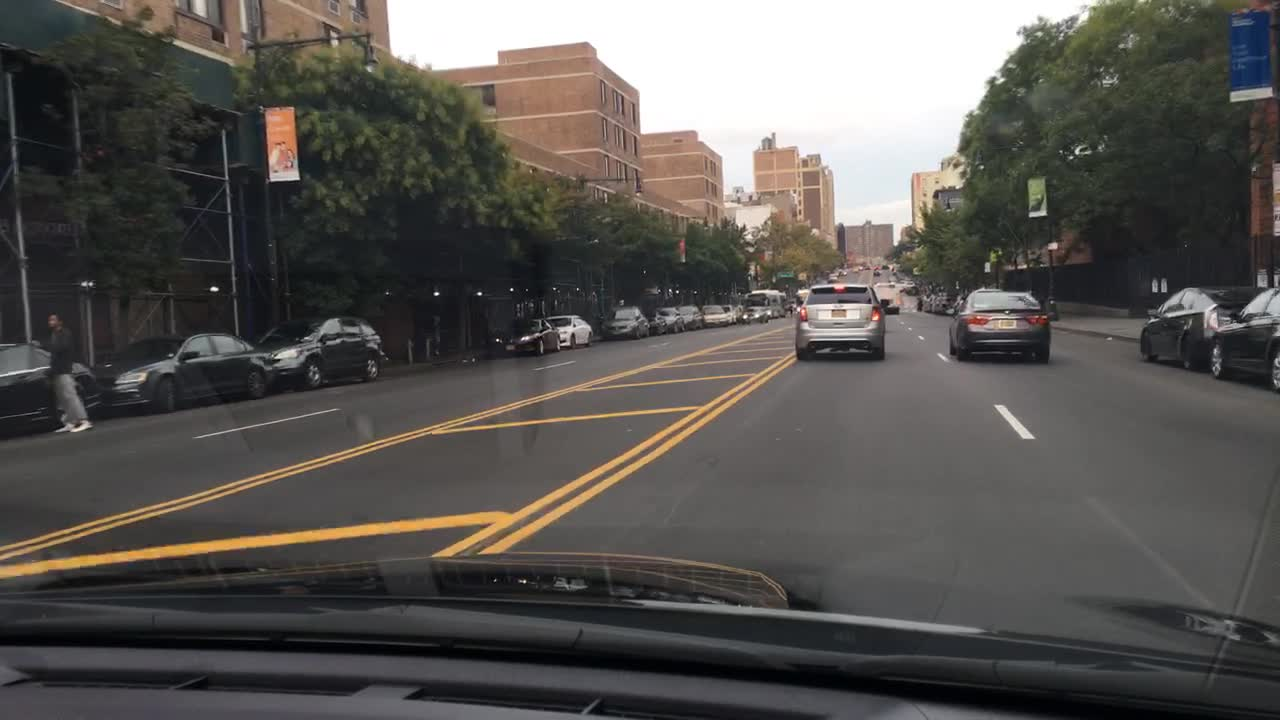bus: (742, 285, 788, 316)
car: (93, 331, 277, 414), (1139, 285, 1270, 372), (250, 314, 388, 391), (0, 341, 103, 436), (948, 287, 1051, 363), (1208, 285, 1280, 391), (795, 282, 886, 358), (490, 317, 562, 355), (601, 303, 650, 340), (543, 314, 594, 349), (645, 306, 687, 335), (917, 286, 955, 313), (871, 281, 901, 315), (676, 305, 705, 331), (701, 303, 728, 328), (741, 304, 772, 324), (721, 303, 741, 325), (953, 293, 967, 316), (784, 297, 801, 311), (908, 284, 921, 295), (897, 278, 907, 290), (905, 278, 915, 290), (827, 272, 839, 282), (836, 268, 848, 276), (880, 263, 891, 269), (856, 263, 864, 271), (852, 265, 859, 273), (872, 270, 881, 276), (872, 264, 880, 270)
person: (29, 311, 92, 433)
traffic sign: (1047, 242, 1058, 250), (778, 272, 793, 277), (797, 272, 806, 279)
